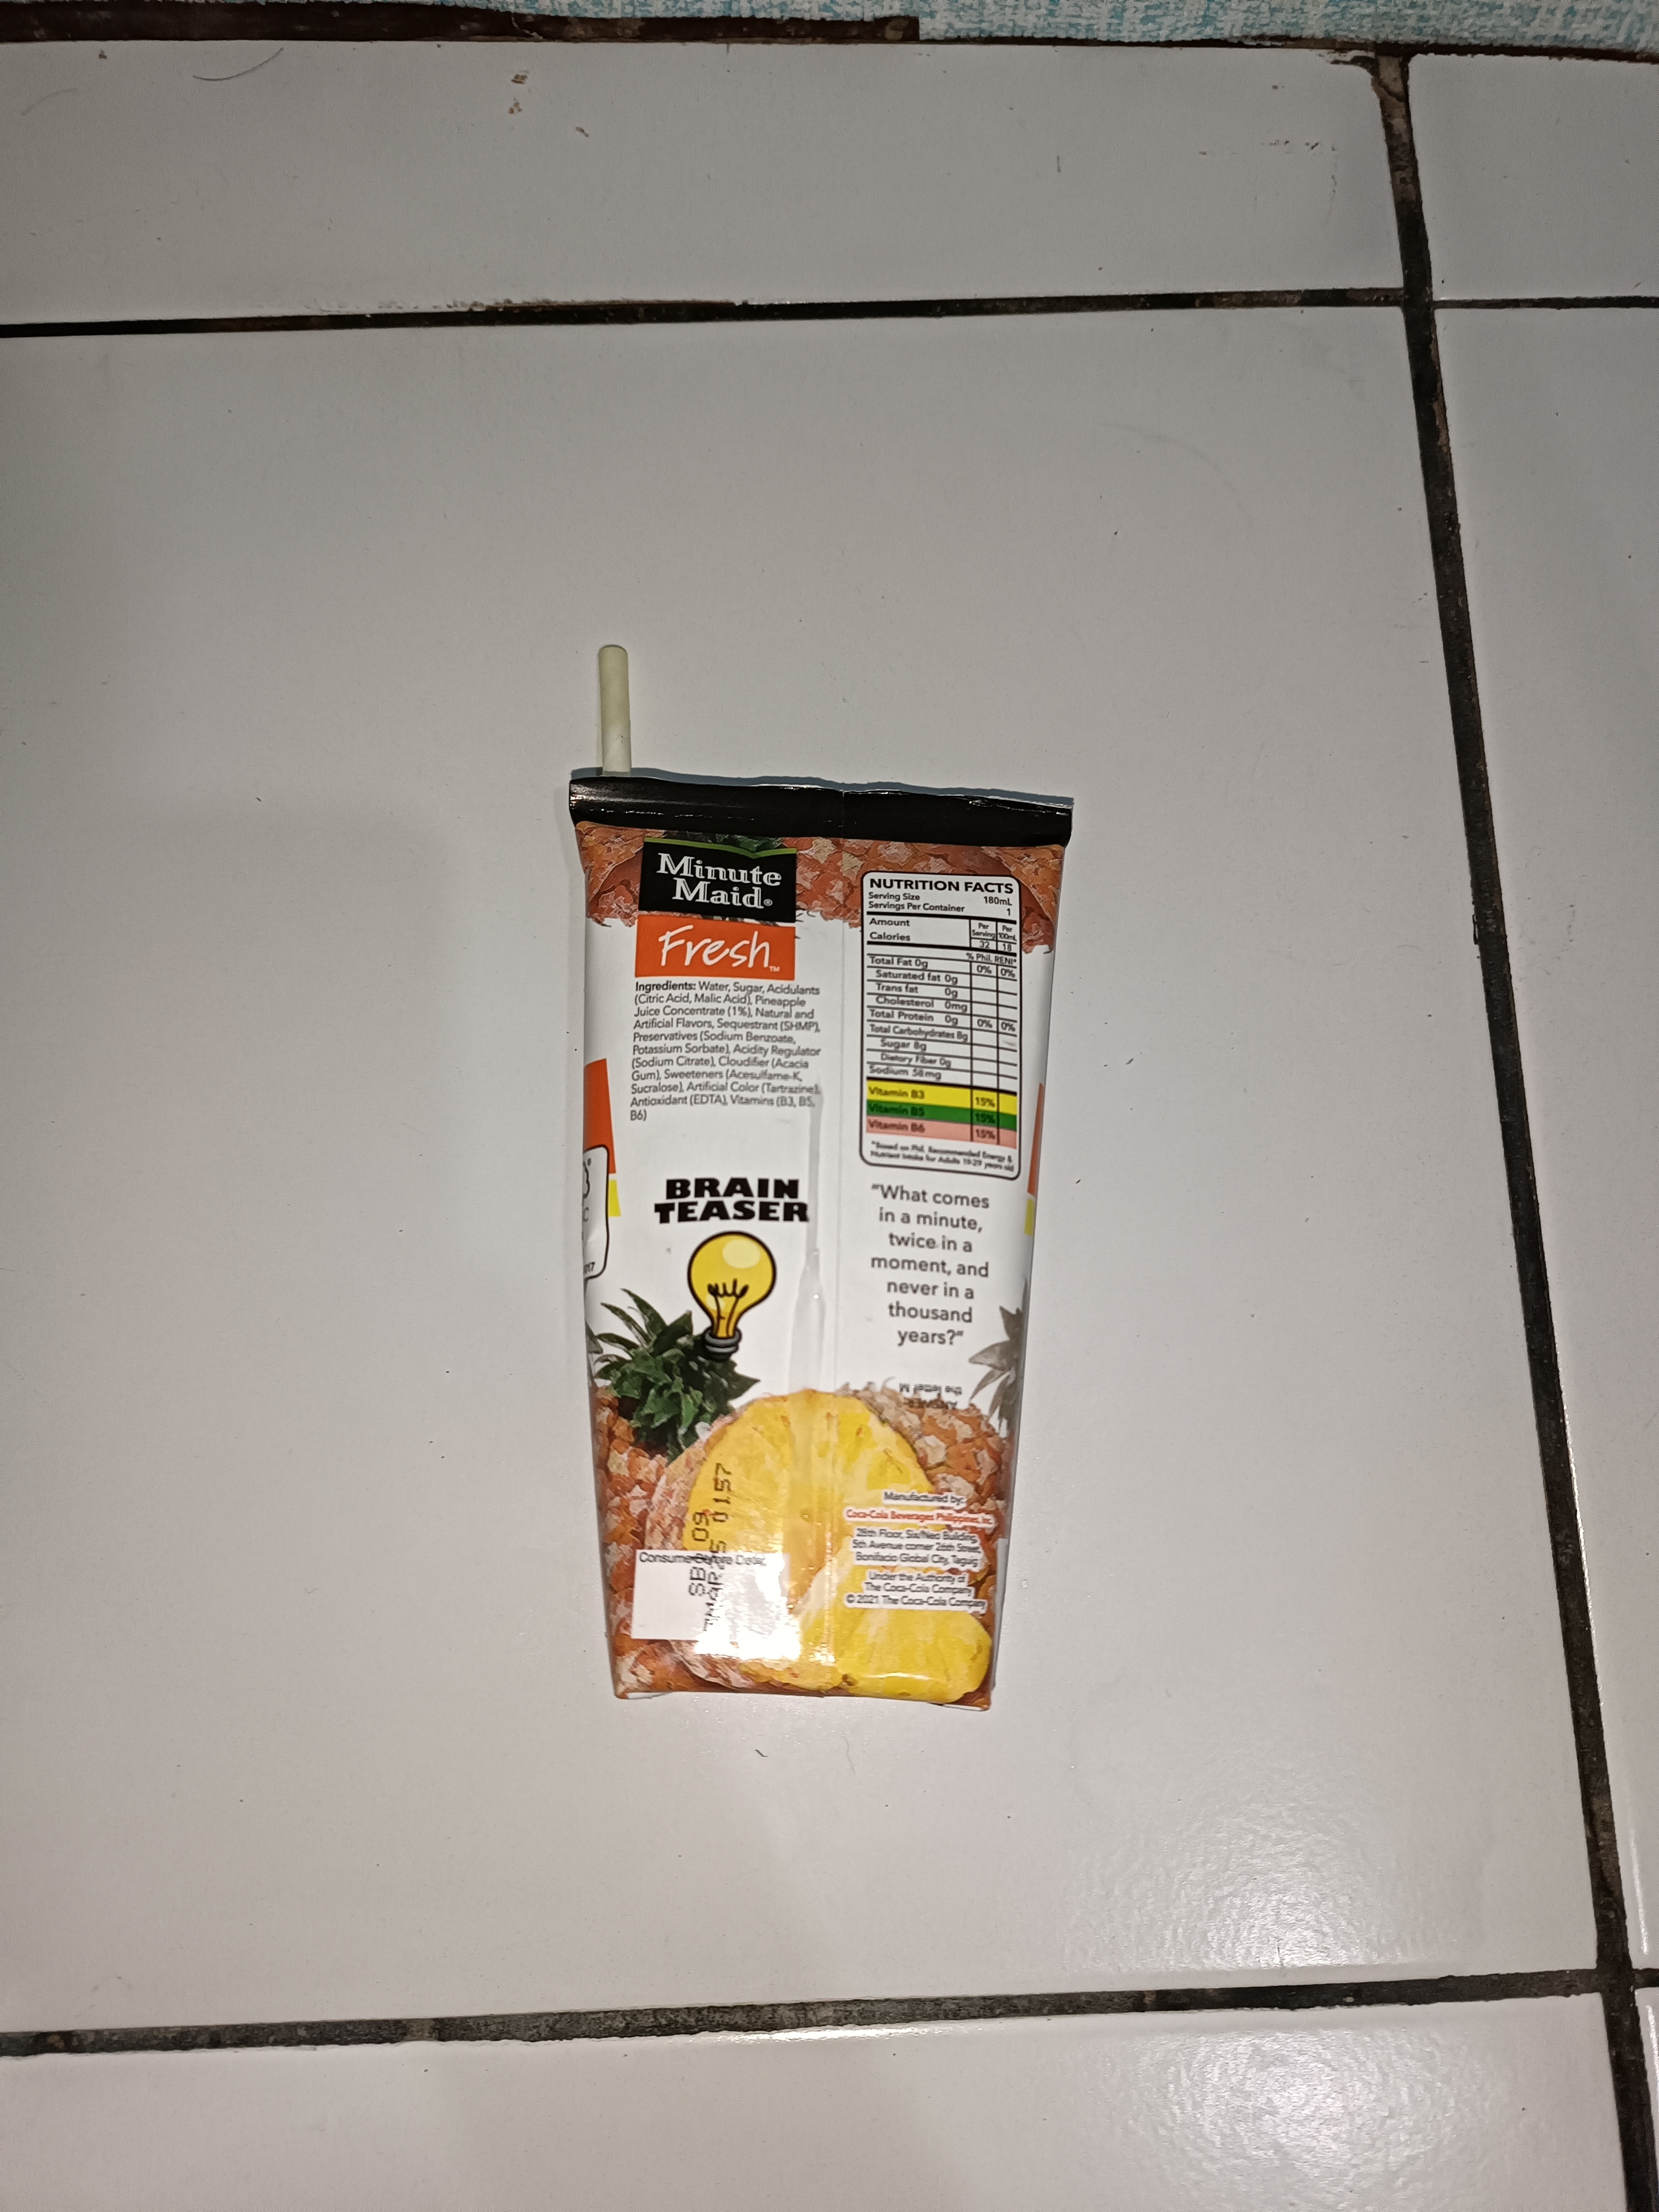Juice Box: (383, 538, 1117, 1747)
